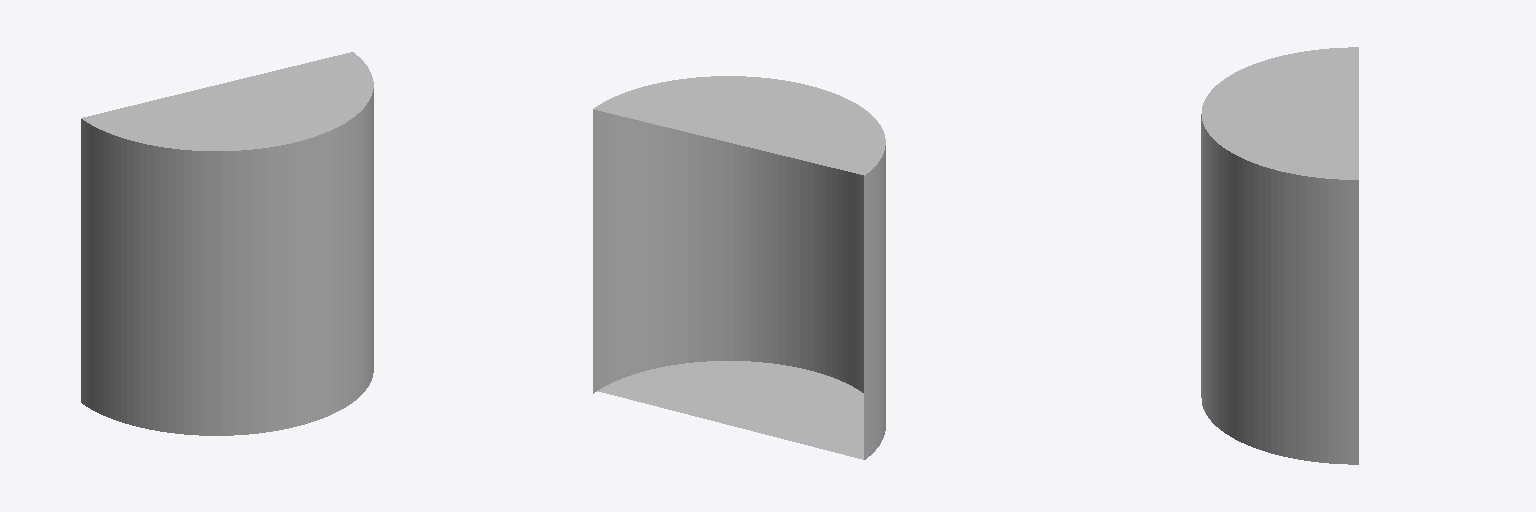
The model's file is halfCylinder_line.obj.
3 views of the same model, side by side, from view 1: azimuth 30°, elevation 25°; view 2: azimuth 150°, elevation 25°; view 3: azimuth 270°, elevation 25° (orthographic).
Visible parts, largest first — view 1: Cylinder; view 2: Cylinder; view 3: Cylinder.
Boxes of the visible parts, <box> form: Cylinder: <box>81,52,373,435</box>; Cylinder: <box>593,76,885,459</box>; Cylinder: <box>1201,47,1358,464</box>.
Size of the model in its own units: 2 by 2 by 1.